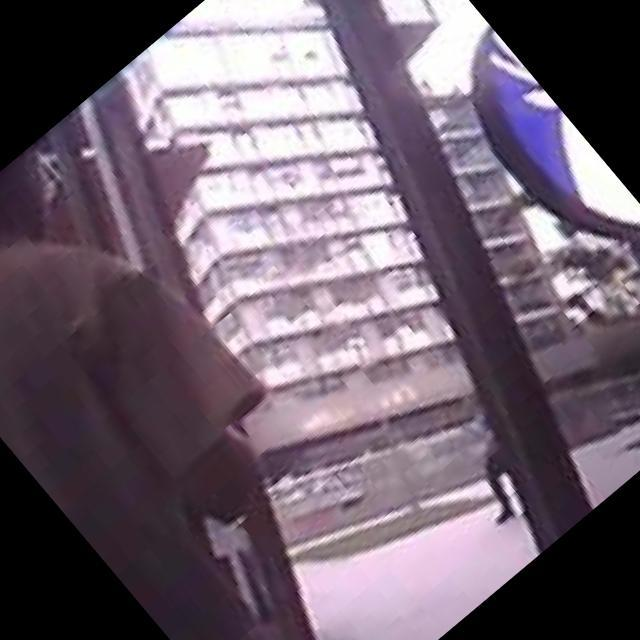person: (0, 130, 460, 640), (416, 387, 549, 528)
